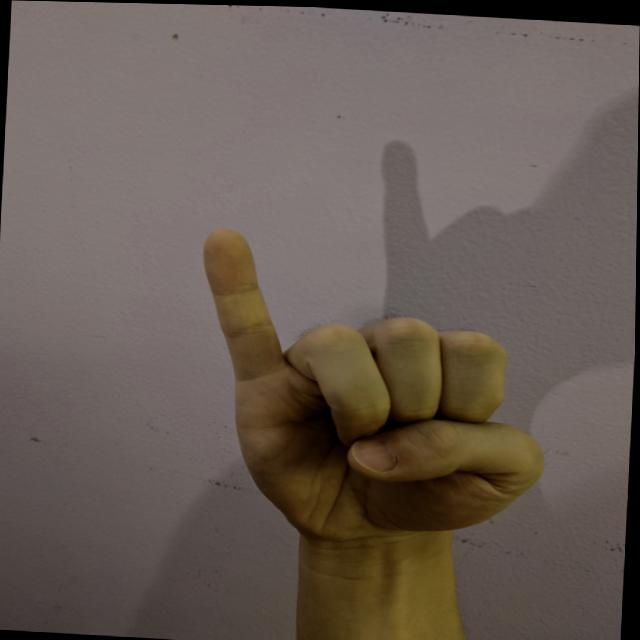I: (185, 220, 564, 552)
